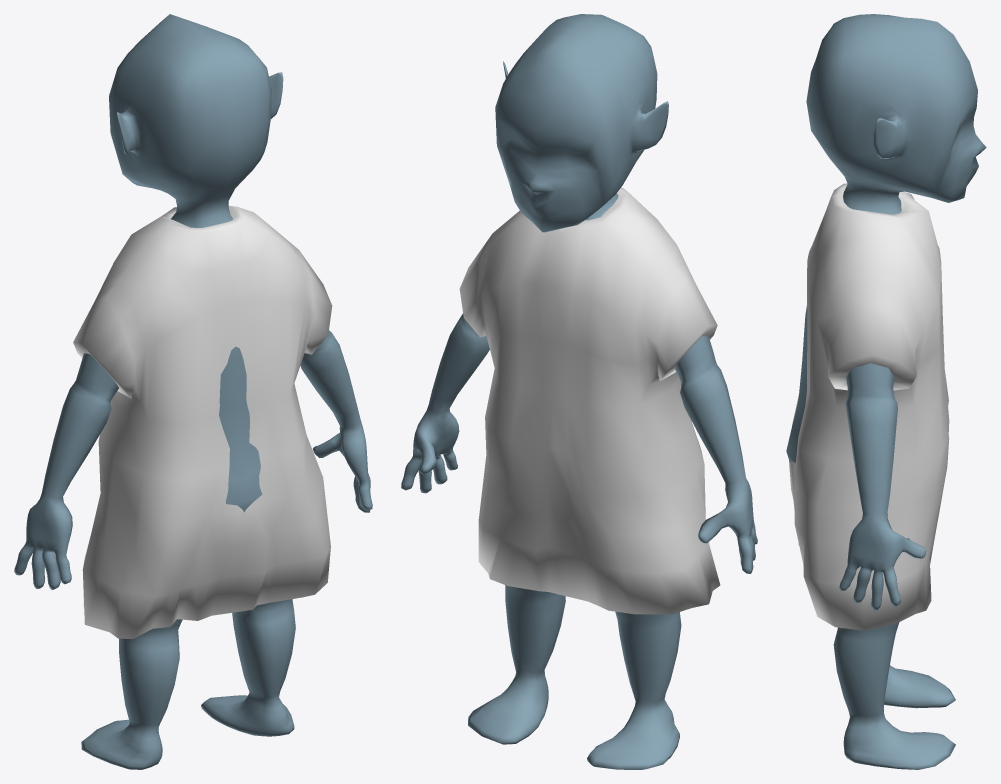
File: MainCharForExport21.fbx
3 views of the same model, side by side, from view 1: azimuth 30°, elevation 25°; view 2: azimuth 150°, elevation 25°; view 3: azimuth 270°, elevation 25° (orthographic).
Visible parts, largest first — view 1: Dress, Body; view 2: Dress, Body; view 3: Body, Dress.
Boxes of the visible parts, x1=… form: Dress: x1=73, y1=205, x2=332, y2=638; Body: x1=14, y1=14, x2=372, y2=769; Dress: x1=459, y1=187, x2=720, y2=614; Body: x1=401, y1=14, x2=757, y2=769; Body: x1=786, y1=14, x2=986, y2=769; Dress: x1=789, y1=183, x2=949, y2=630.
Bounding box in the file's own units: 216 × 419 × 107.
